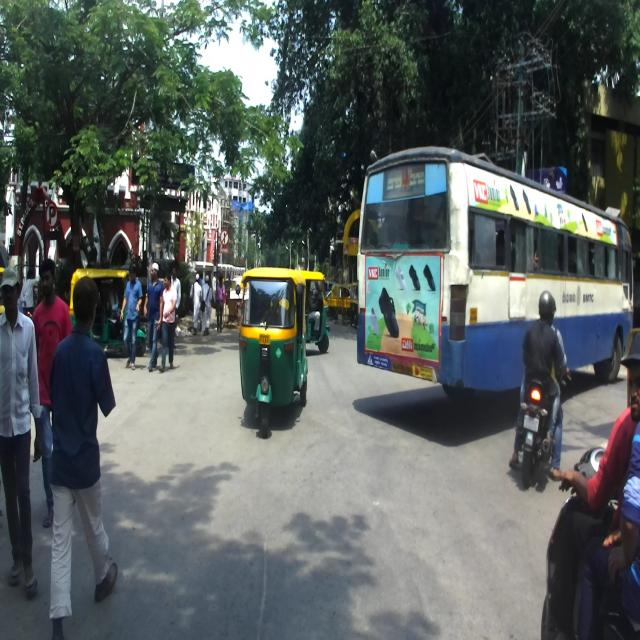autorickshaw: (234, 266, 307, 438), (68, 267, 147, 356)
bus: (353, 141, 635, 413)
motorcycle: (515, 369, 571, 487)
scooter: (540, 445, 640, 639)
